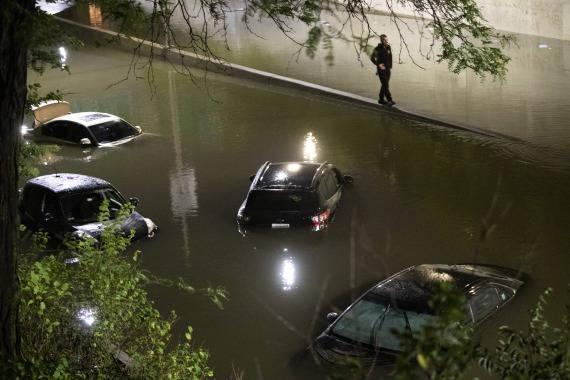water: (27, 45, 568, 378), (39, 1, 568, 153), (36, 134, 237, 231)
